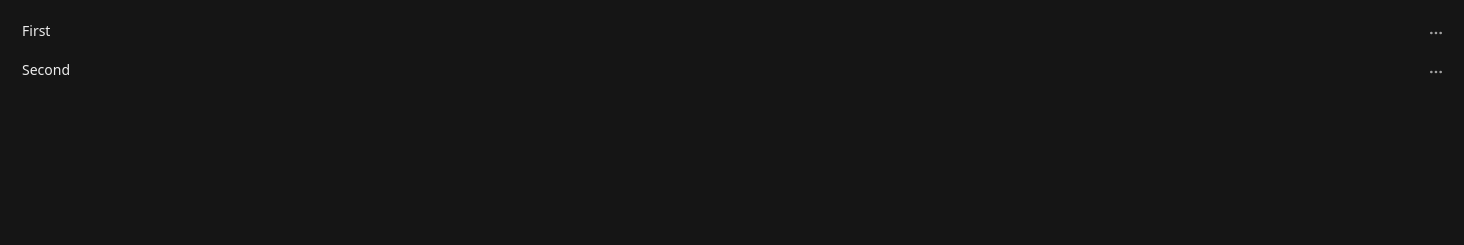
Test: sidebar session actions › closes an accepted action after StrictMode effect replay
Click the button named "更多會話操作 First".
click(1435, 33)  # box [1422, 20, 1448, 46]
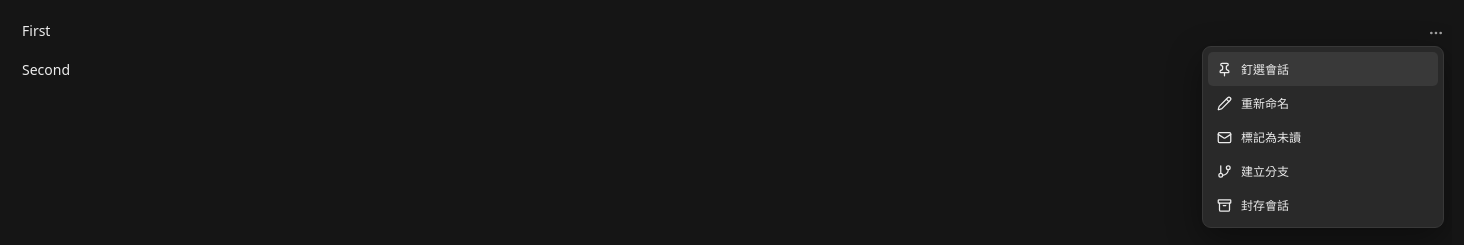
Click the menu item "釘選會話".
click(1323, 69)  # box [1208, 52, 1438, 86]
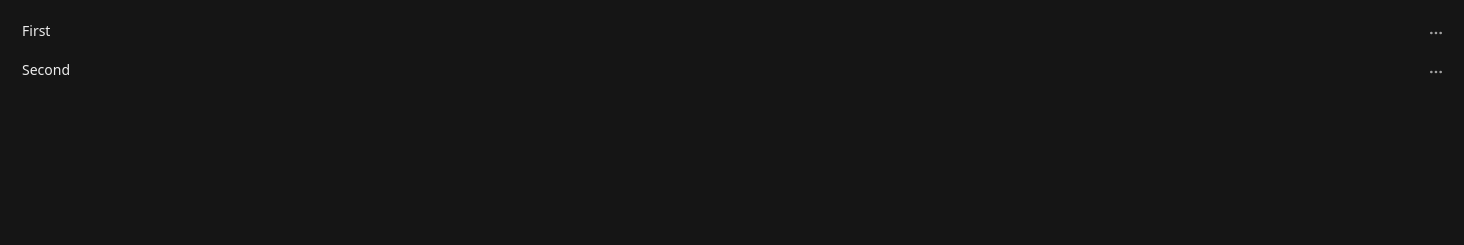
Expected: the menu is gone
